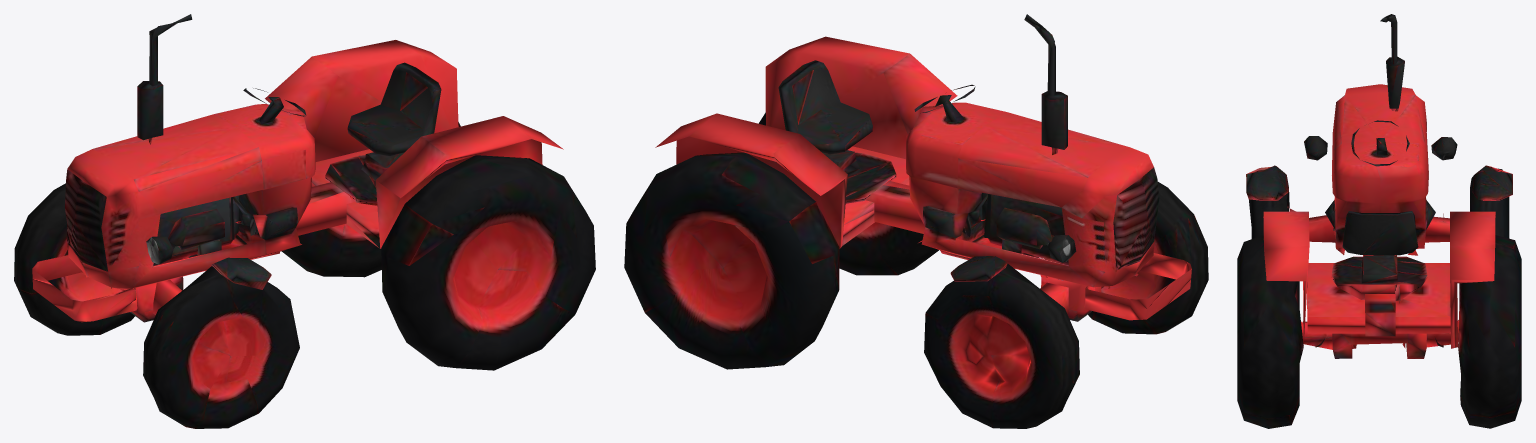
Rendered from tractor.glb.
3 renders of one model, left to right at view 1: azimuth 30°, elevation 25°; view 2: azimuth 150°, elevation 25°; view 3: azimuth 270°, elevation 25°, orthographic. The views are drawn at different scales.
Bounding box in the file's own units: 0.9503 × 0.689 × 0.5815.
Materials: 1 (1 with a texture image).
